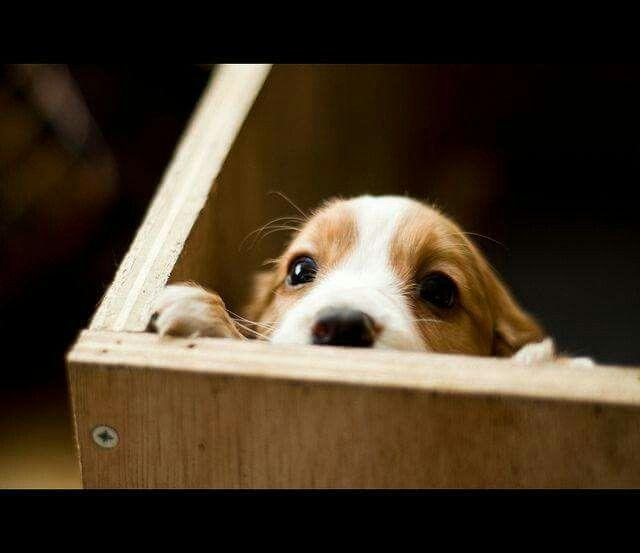puppy-dog: (139, 191, 594, 367)
